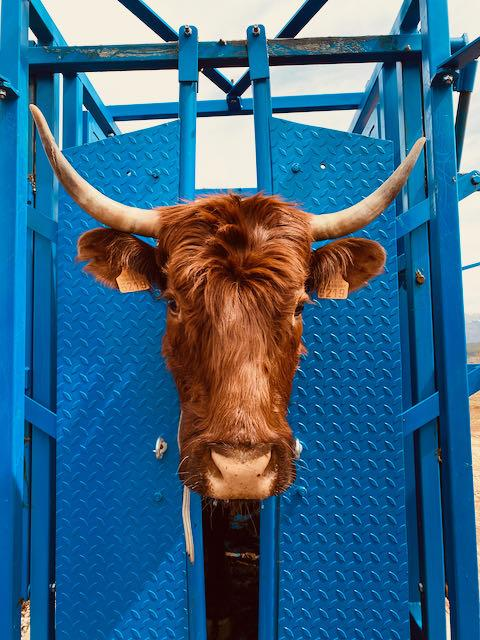muzzles: (173, 434, 302, 506)
